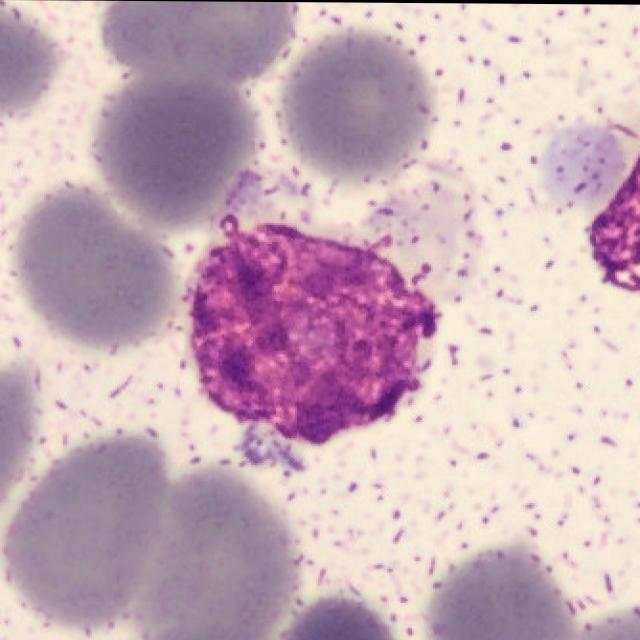Restos celulares: (186, 215, 439, 444)
